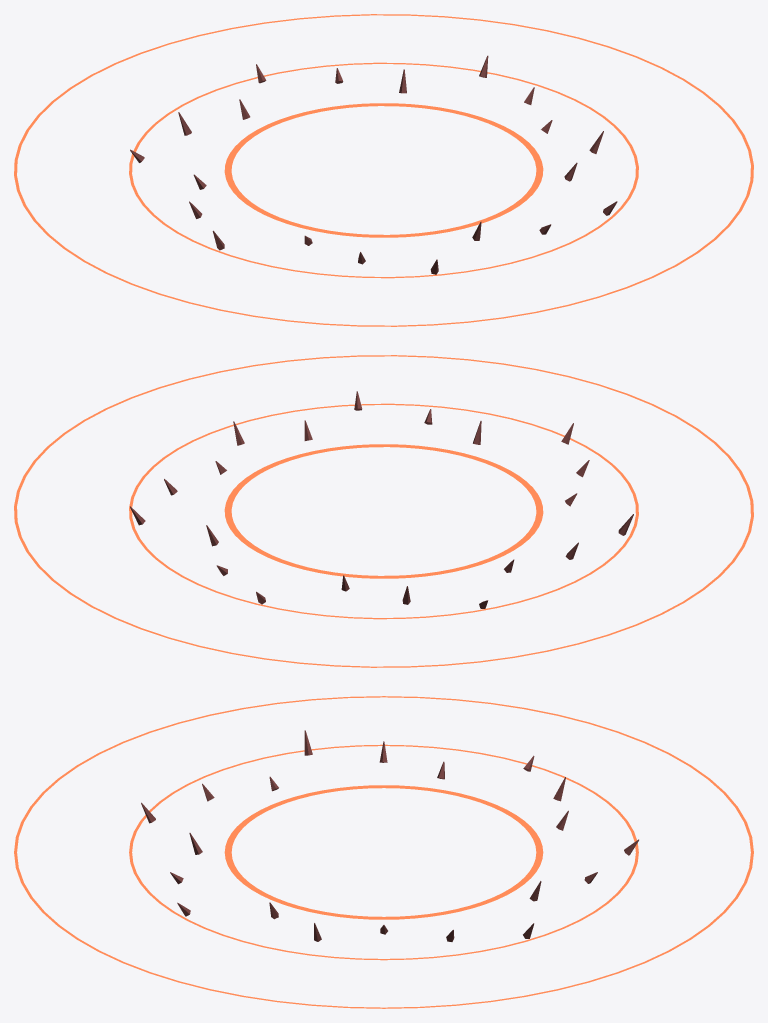
File: FX_BOSS_BloodSeal.glb
The picture shows the model from 3 angles, top to bottom: view 1: azimuth 30°, elevation 25°; view 2: azimuth 150°, elevation 25°; view 3: azimuth 270°, elevation 25°; orthographic projection.
Parts seen in each view (by area): view 1: FX_BOSS_BloodSeal_Release, FX_BOSS_BloodSeal_Debris; view 2: FX_BOSS_BloodSeal_Release, FX_BOSS_BloodSeal_Debris; view 3: FX_BOSS_BloodSeal_Release, FX_BOSS_BloodSeal_Debris.
Part boxes in pixels (x1,y1,x2,y2): FX_BOSS_BloodSeal_Release: [14, 14, 753, 326]; FX_BOSS_BloodSeal_Debris: [130, 55, 617, 274]; FX_BOSS_BloodSeal_Release: [14, 355, 753, 667]; FX_BOSS_BloodSeal_Debris: [130, 391, 633, 608]; FX_BOSS_BloodSeal_Release: [14, 696, 753, 1008]; FX_BOSS_BloodSeal_Debris: [141, 730, 638, 941].
Size of what is drawn, in the model's own units: 0.0255 by 0.000875 by 0.0255.
